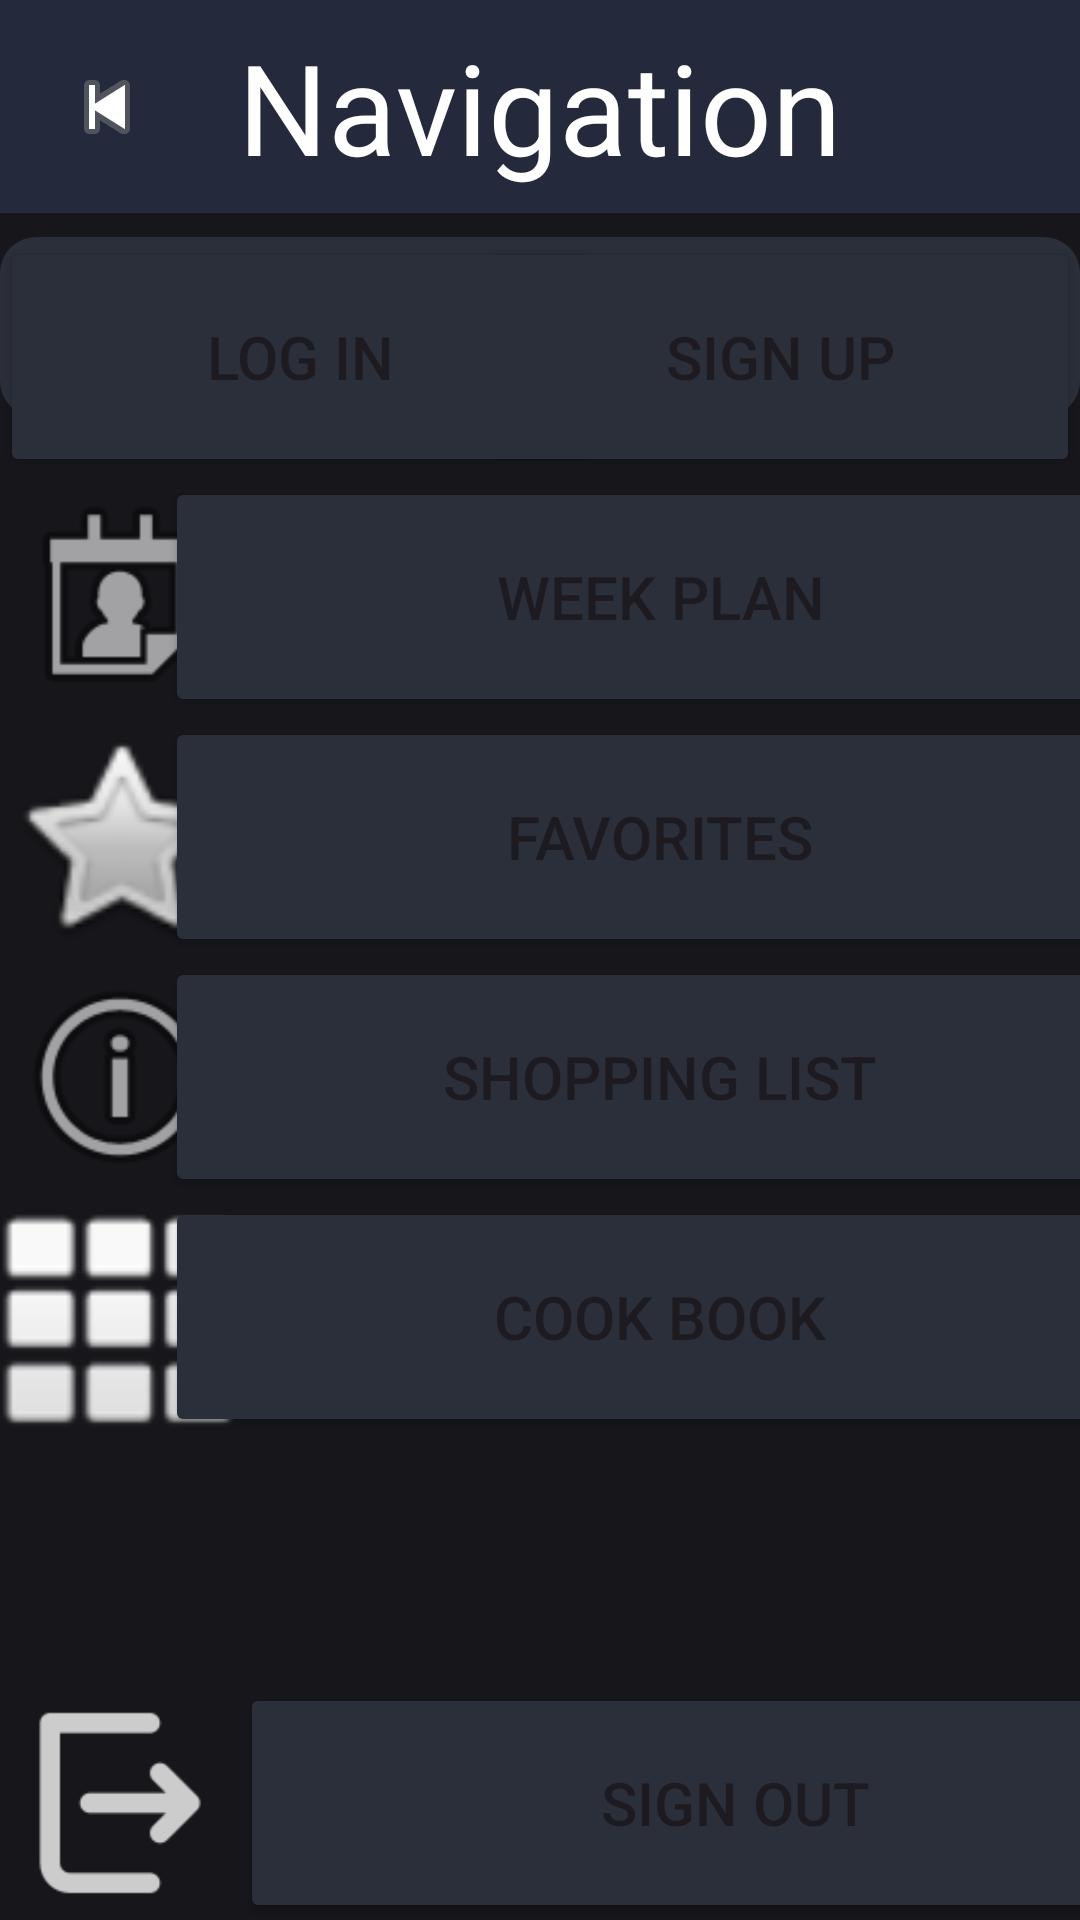

Named icons in this screenshot (1080 × 1920) and their bounding boxes, (x1, y1, x2, y2):
calendar: (49, 495, 240, 699)
dialer: (4, 1216, 155, 1423)
exit: (39, 1712, 201, 1894)
info details: (41, 975, 240, 1179)
previous: (84, 80, 130, 134)
star off: (26, 735, 240, 939)
